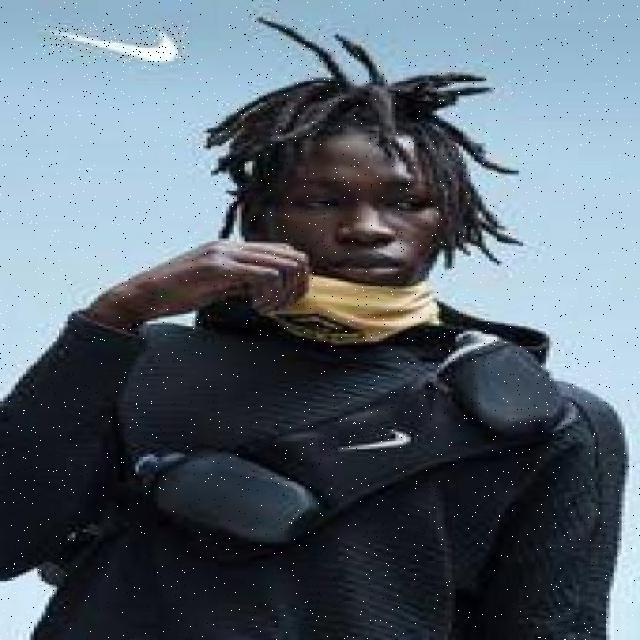Nike: (41, 25, 189, 63), (328, 422, 422, 452)
